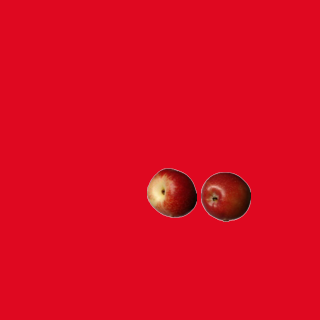Apple Braeburn: (200, 171, 250, 221)
Nectarine: (146, 167, 196, 217)
